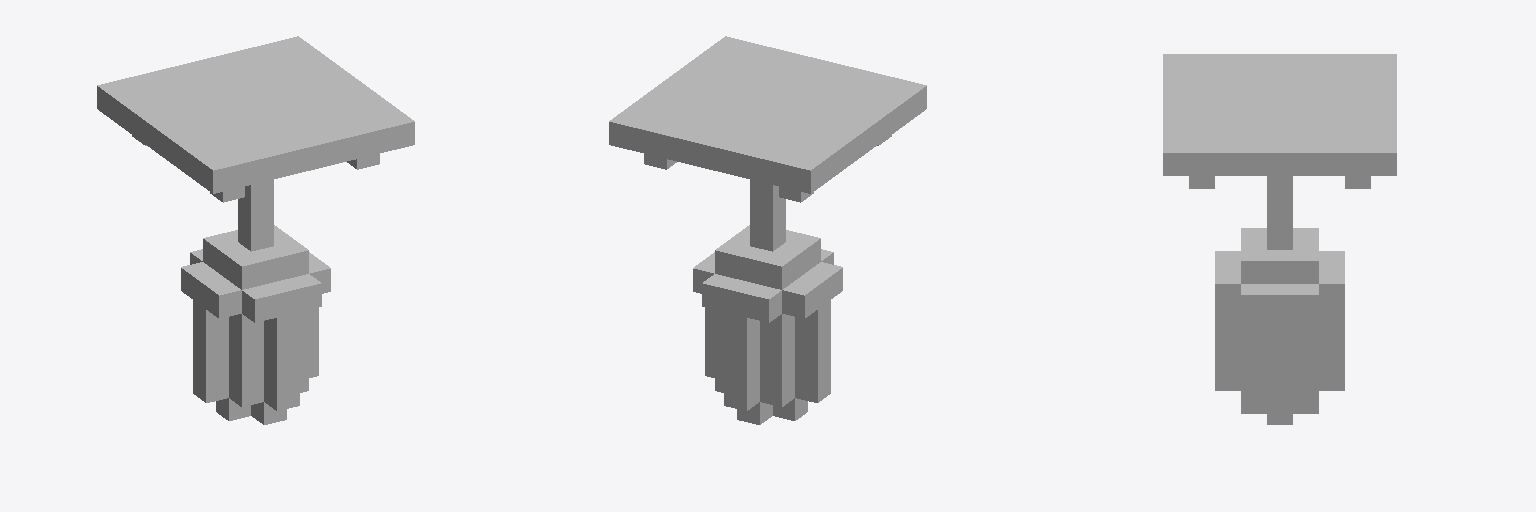
The model's file is lamp.obj.
3 renders of one model, left to right at view 1: azimuth 30°, elevation 25°; view 2: azimuth 150°, elevation 25°; view 3: azimuth 270°, elevation 25°, orthographic.
Size of the model in its own units: 9 by 13 by 9.